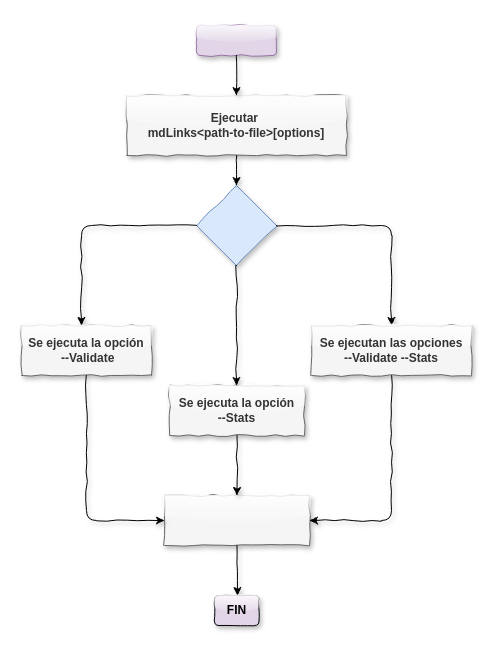
The diagram is 495 pixels wide and 651 high, and some of its shapes have lost their labels. The shapes that lost their labels are listed below. From the top down, each one's centre as x and y in pixels, then its label:
the point at 237,41: INICIO
the point at 237,226: Options
the point at 238,521: Se muestra el resultado en consola
